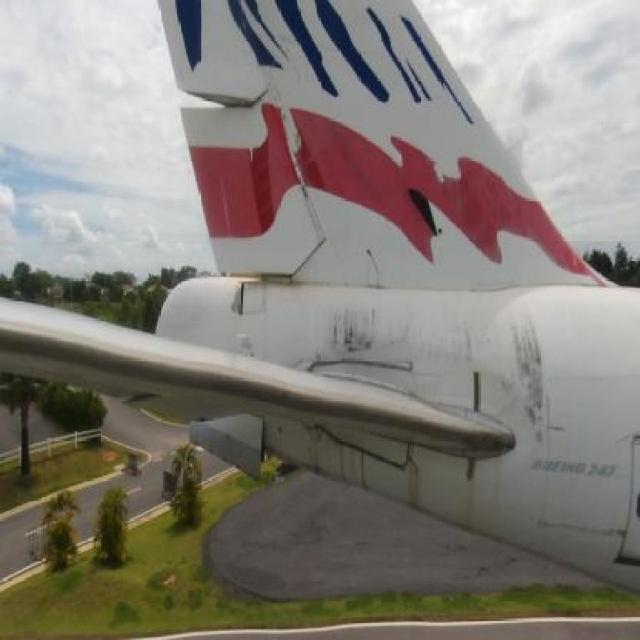Missing-Rivet: (289, 136, 325, 256)
Rust: (508, 298, 567, 450), (409, 312, 508, 386), (306, 416, 376, 496), (324, 296, 408, 362), (456, 451, 492, 540), (286, 155, 326, 230), (398, 444, 429, 527)
Scartch: (532, 505, 632, 553), (542, 391, 582, 464), (223, 281, 254, 324)
